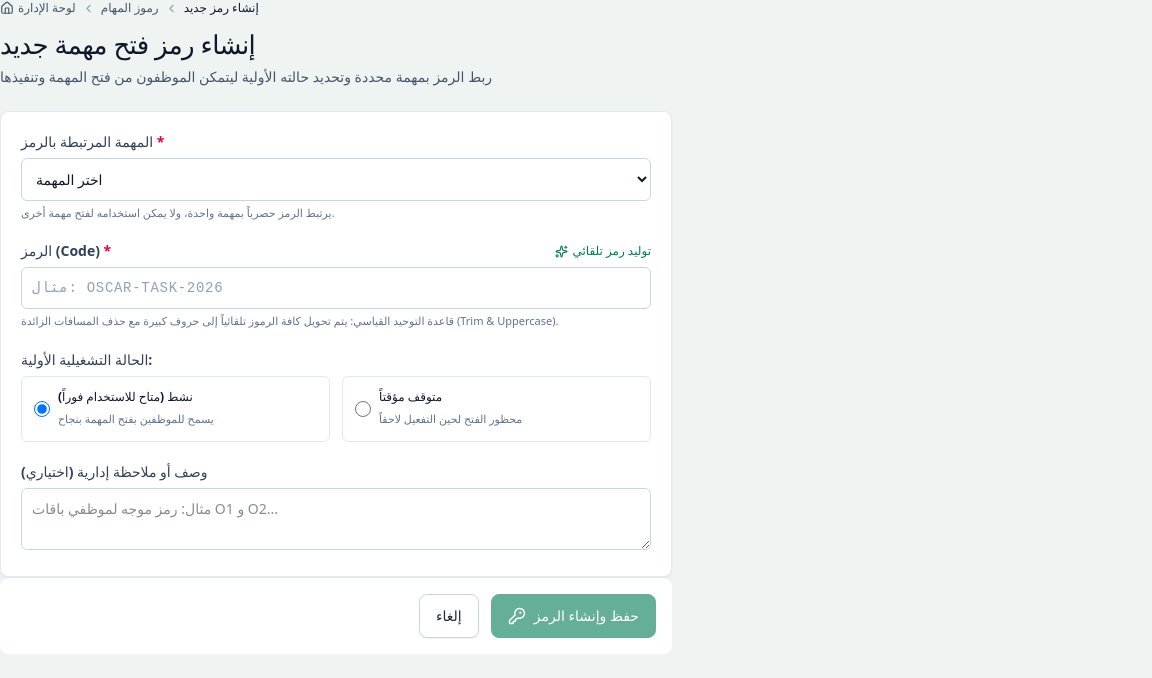
Test: confirms normalized draft and initial state only after authorized task selection
Select "مهمة اليوم (منصة)" in the dropdown labelled "المهمة المرتبطة بالرمز *": {"x": 336, "y": 179} [21,158,651,201]
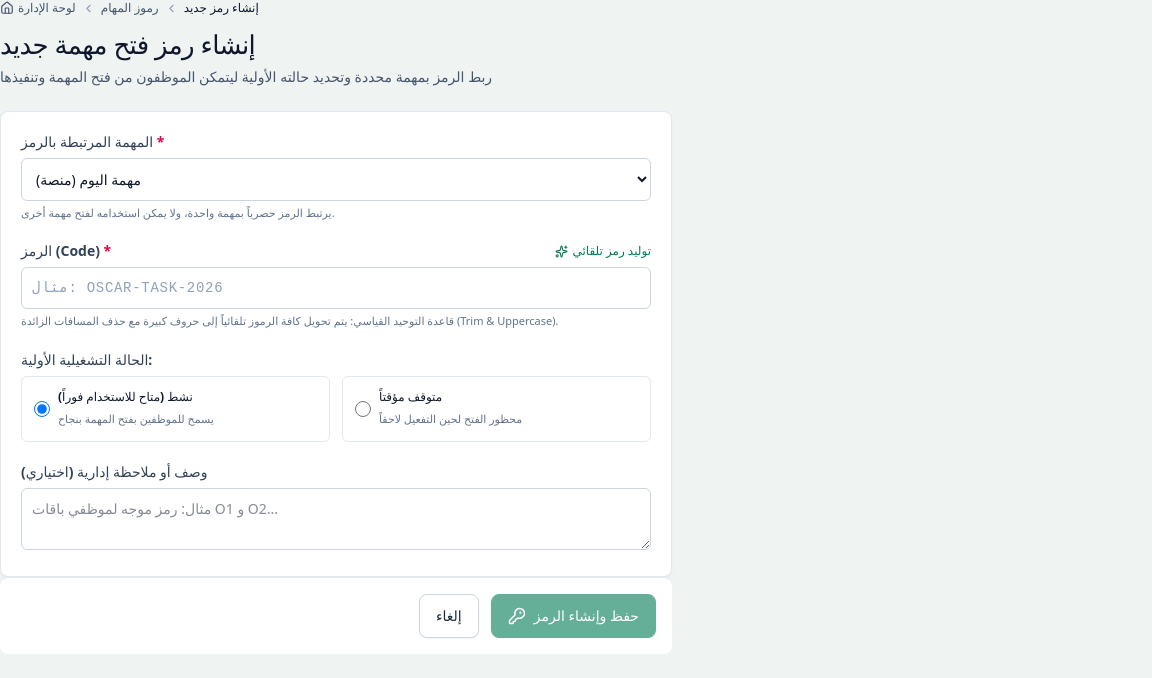
In the field labelled "الرمز (Code) *": {"x": 336, "y": 288} [21,267,651,309], type " abc "
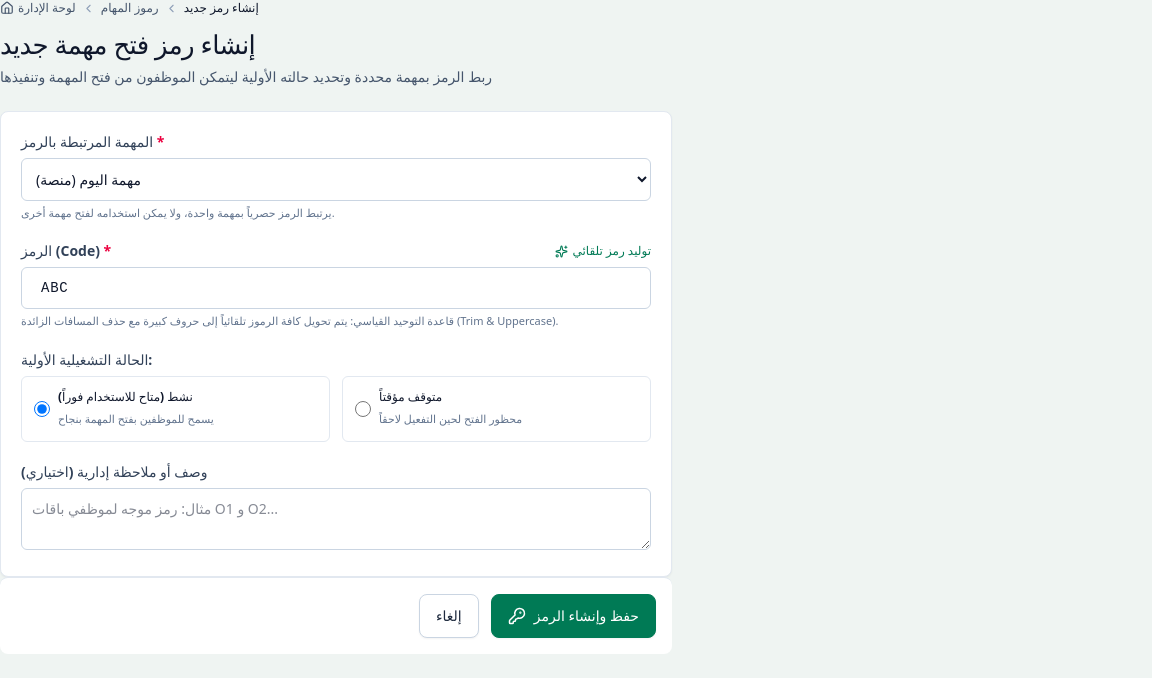
Expected: the button "حفظ وإنشاء الرمز" is enabled
Click the button "حفظ وإنشاء الرمز": {"x": 573, "y": 616} [491,594,656,638]
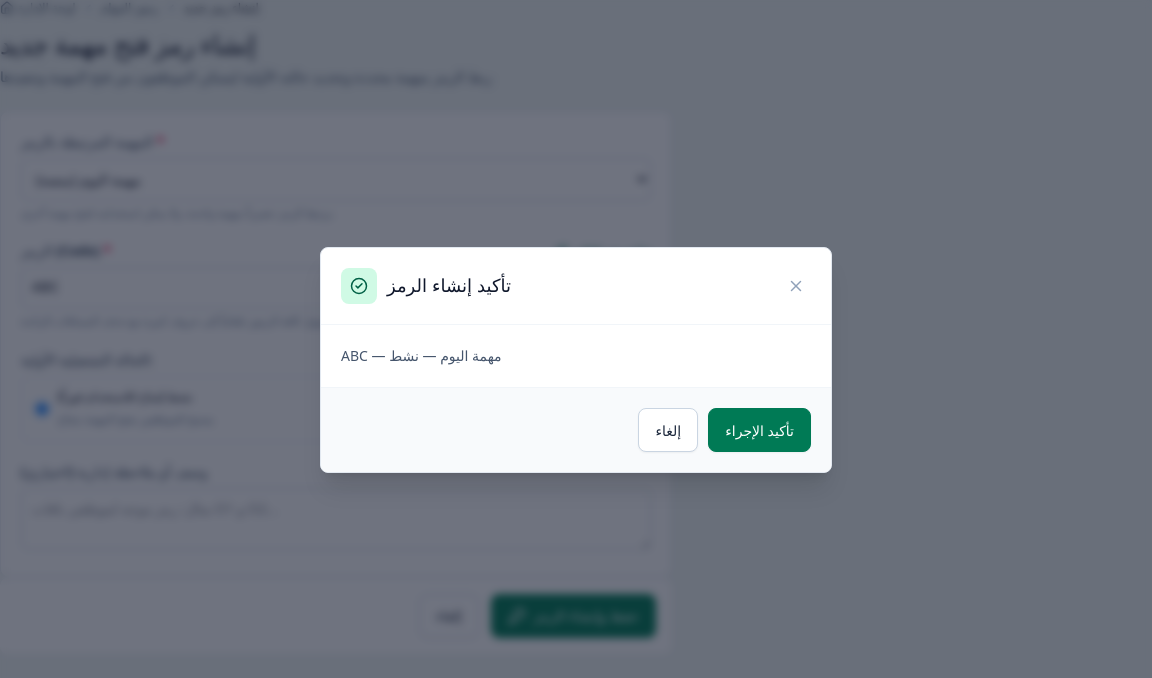
Expected: the text "ABC — مهمة اليوم — نشط" is shown, [341,346,502,365]
